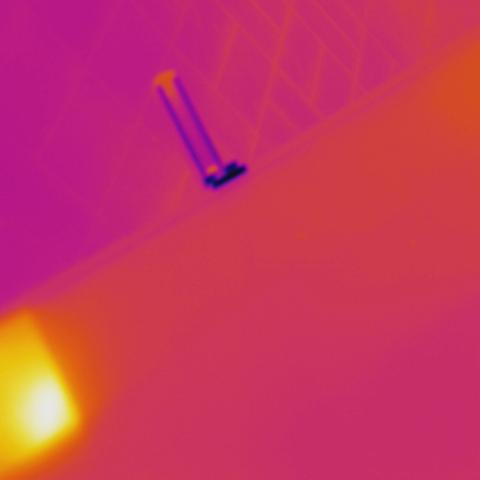fault: (2, 300, 90, 478)
